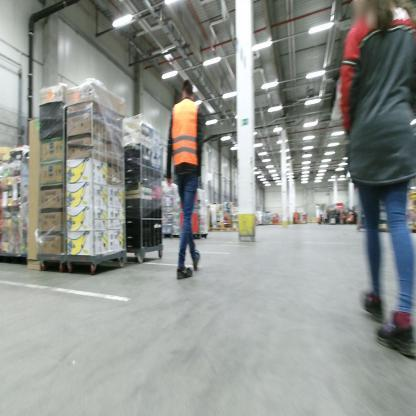pallets: (28, 250, 127, 276)
